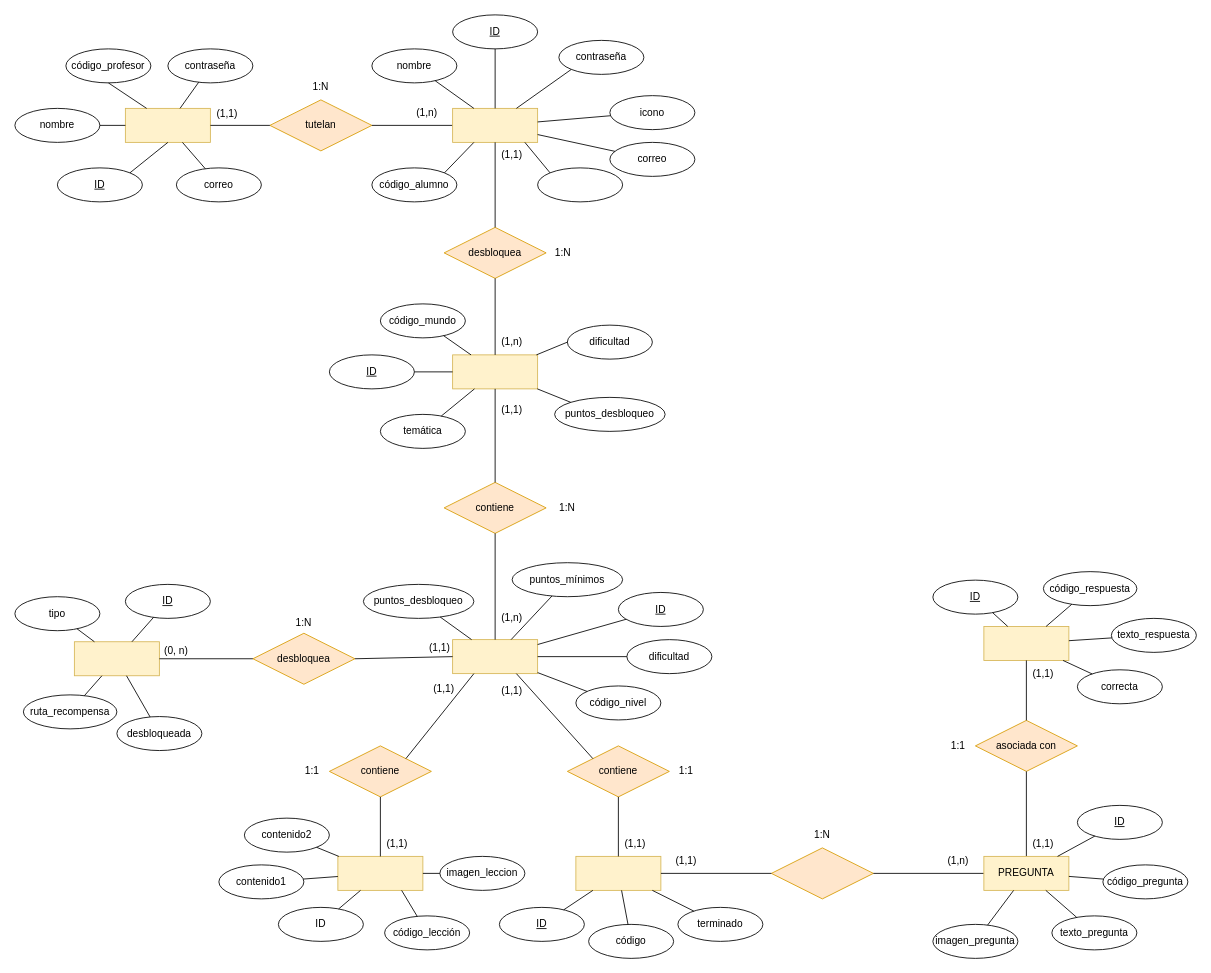
Image size: 1211x973. Some labels were removed from this diagram. The shapes that lost their labels are listed below. From the top down, each one's centre as x and y in pixels, then its label:
At pixel 167 125: "PROFESOR".
At pixel 495 125: "USUARIO".
At pixel 580 184: "puntos".
At pixel 495 371: "MUNDO".
At pixel 116 658: "RECOMPENSA".
At pixel 495 656: "NIVEL".
At pixel 1026 643: "RESPUESTA".
At pixel 380 873: "LECCIÓN".
At pixel 618 873: "TEST".
At pixel 822 873: "formado por".
